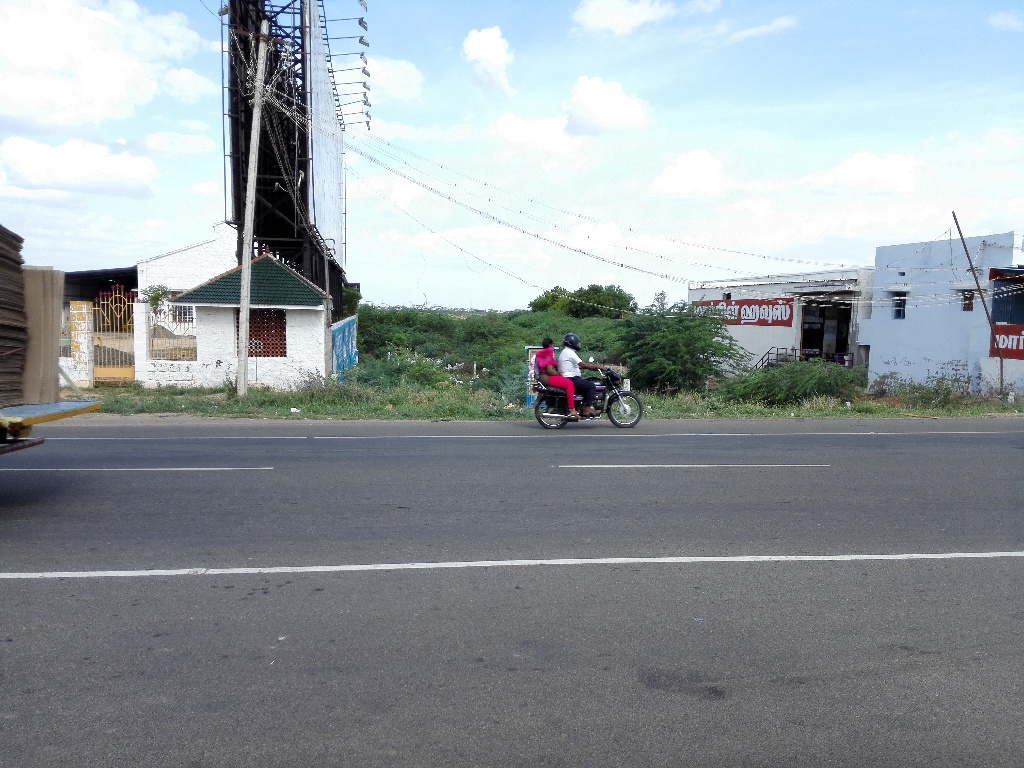biker: (522, 301, 654, 438)
helmet: (559, 325, 590, 354)
nohelmet: (539, 332, 560, 361)
